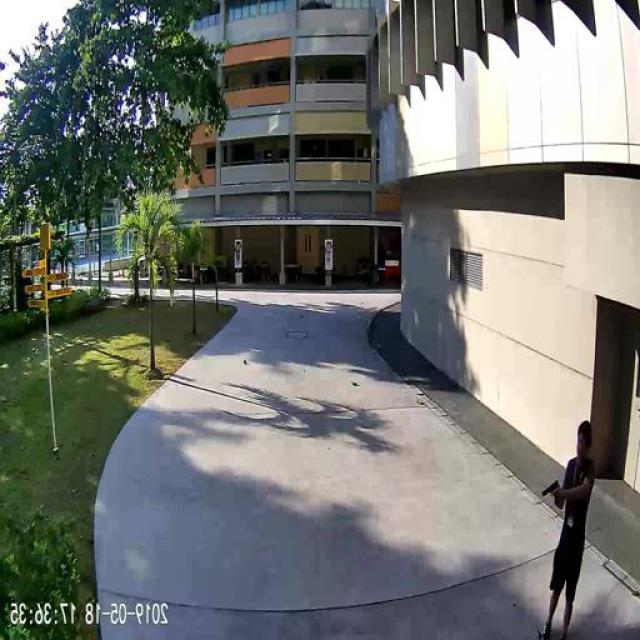Gun: (544, 478, 562, 500)
